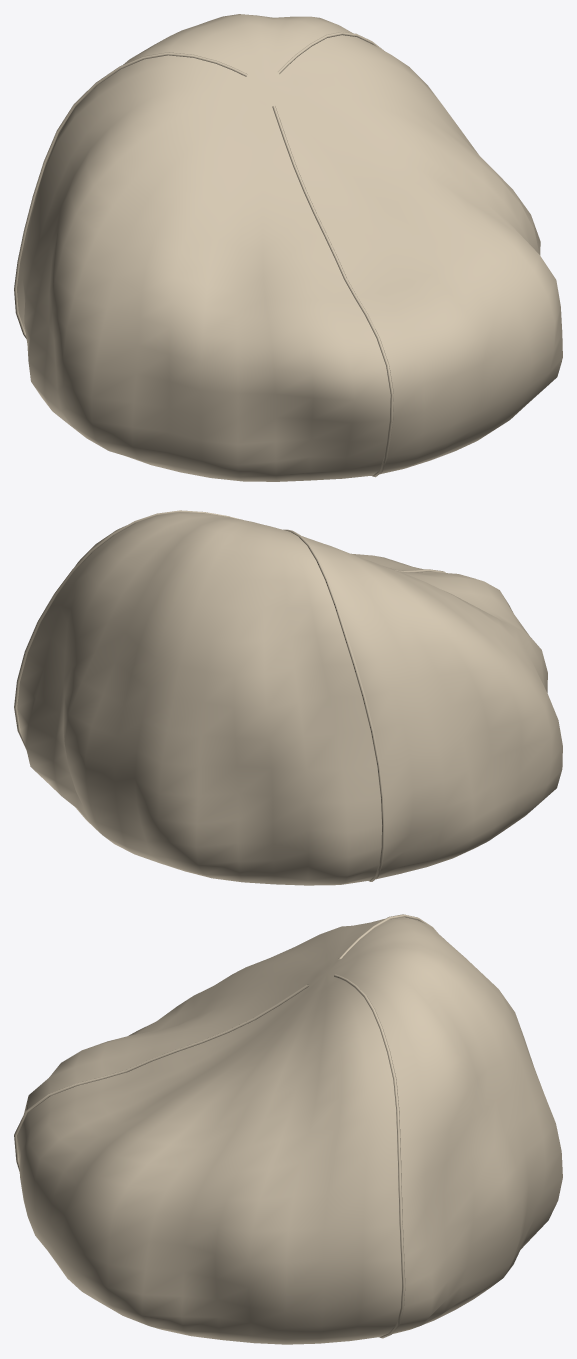
Rendered from bean_bag.glb.
3 renders of one model, top to bottom at view 1: azimuth 30°, elevation 25°; view 2: azimuth 150°, elevation 25°; view 3: azimuth 270°, elevation 25°, orthographic. The views are drawn at different scales.
Parts seen in each view (by area): view 1: bean_bag_soft; view 2: bean_bag_soft; view 3: bean_bag_soft.
Boxes of the visible parts, left/top/right/bottom form: bean_bag_soft: left=14, top=14, right=562, bottom=481; bean_bag_soft: left=14, top=510, right=562, bottom=885; bean_bag_soft: left=14, top=914, right=562, bottom=1344.
Size of the model in its own units: 0.915 by 0.5888 by 0.9307.
